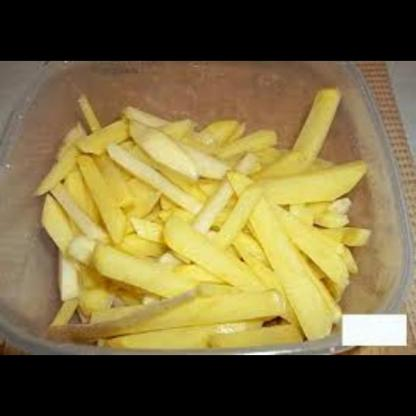potato: (46, 91, 352, 350)
